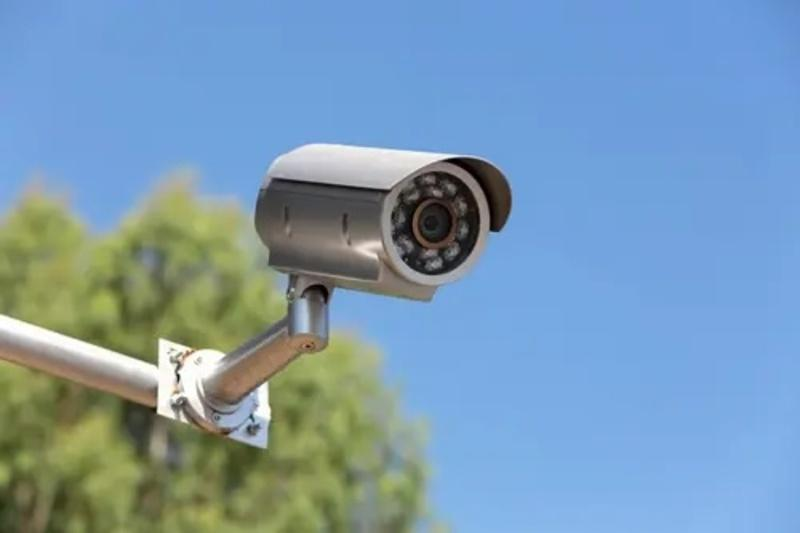bullet: (243, 132, 521, 308)
